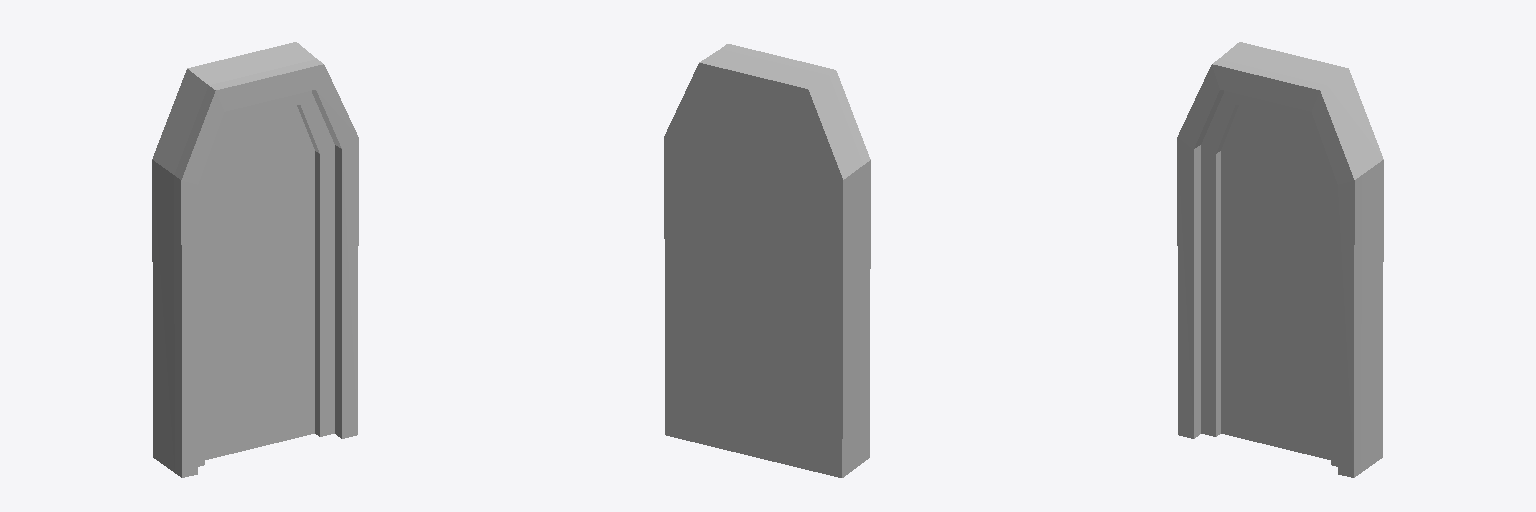
Rendered from Door White.obj.
3 renders of one model, left to right at view 1: azimuth 30°, elevation 25°; view 2: azimuth 150°, elevation 25°; view 3: azimuth 330°, elevation 25°, orthographic.
Parts seen in each view (by area): view 1: Door_White; view 2: Door_White; view 3: Door_White.
Boxes of the visible parts, box(x1,y1,x2,y2) form: Door_White: box(152, 42, 358, 477); Door_White: box(664, 44, 870, 477); Door_White: box(1177, 42, 1383, 477).
Size of the model in its own units: 1.12 by 2.27 by 0.3079.